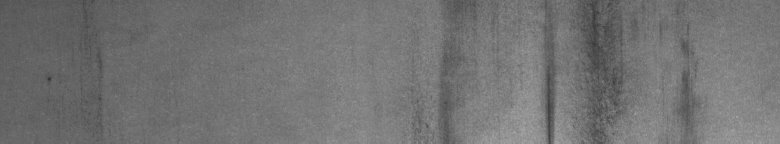ka: (540, 4, 624, 136)
